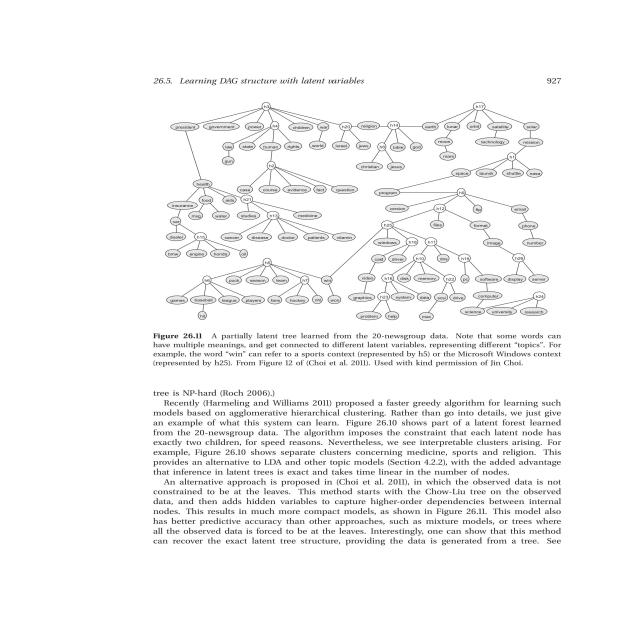diagram: (114, 97, 635, 389)
